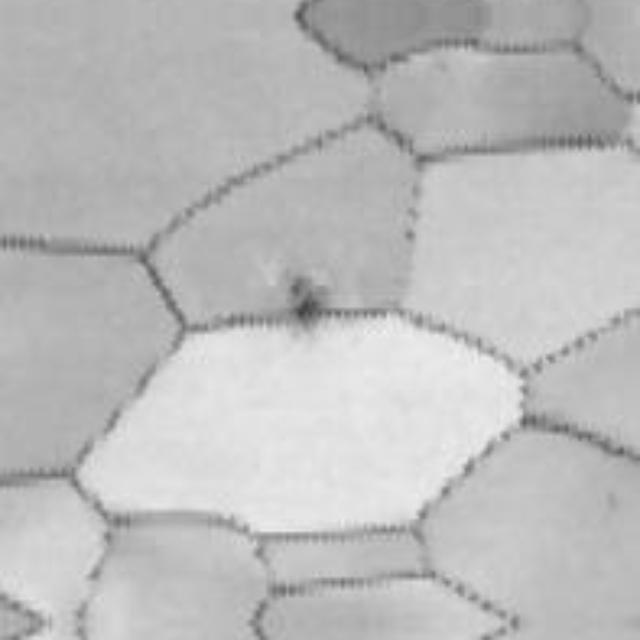good_void: (286, 273, 324, 329)
